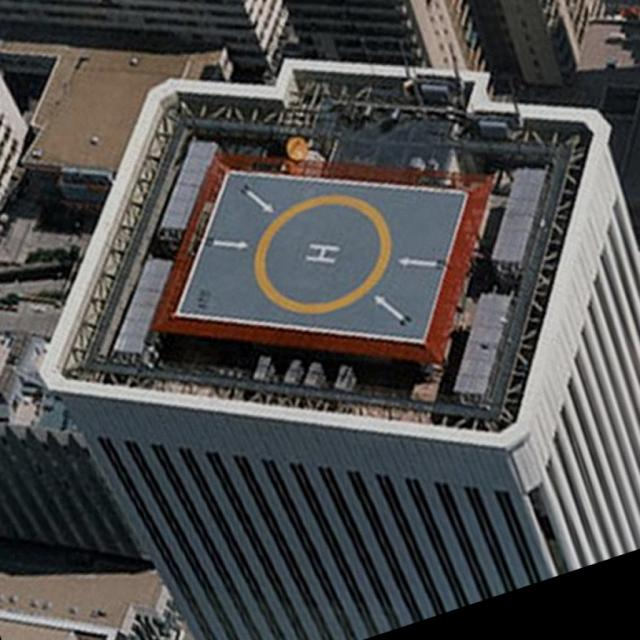helipad: (248, 190, 396, 319)
